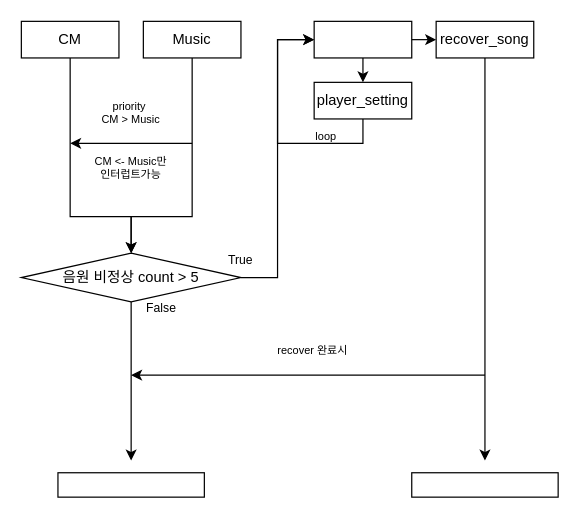
Some shapes in this 580 by 519 pixel diagram are drawn without their labels. Each missing label, with the centre of its shape:
"recover" belongs at pixel 362 39.
"비상용 음원 반복 송출" belongs at pixel 484 484.
"정상음원 송출" belongs at pixel 130 484.
